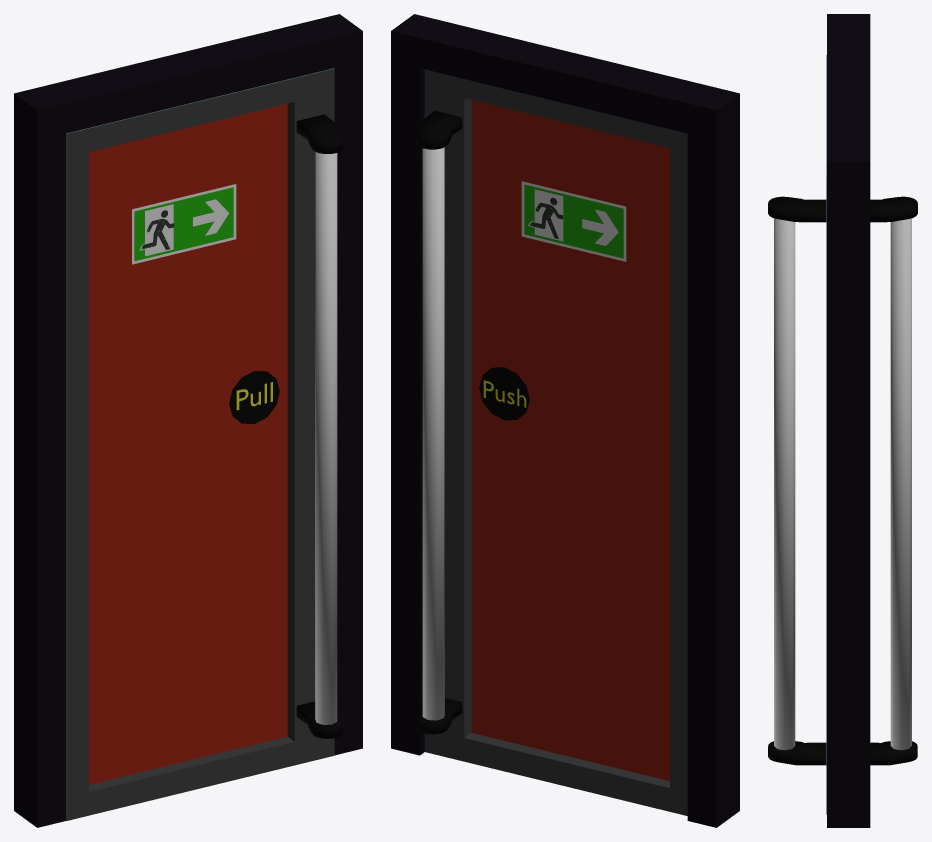
File: d-door-campus-exit.glb
3 renders of one model, left to right at view 1: azimuth 30°, elevation 25°; view 2: azimuth 150°, elevation 25°; view 3: azimuth 270°, elevation 25°, orthographic. The views are drawn at different scales.
Parts seen in each view (by area): view 1: Door, spaceExitDoot.001; view 2: Door, spaceExitDoot.001; view 3: spaceExitDoot.001, Door.
Part boxes in pixels (left/top/right/bottom): Door: left=66, top=68, right=343, bottom=820; spaceExitDoot.001: left=14, top=14, right=362, bottom=827; Door: left=416, top=69, right=687, bottom=815; spaceExitDoot.001: left=391, top=14, right=739, bottom=827; spaceExitDoot.001: left=827, top=14, right=870, bottom=827; Door: left=768, top=55, right=917, bottom=814.
Bounding box in the file's own units: 0.9425 × 1.99 × 0.4043.
Materials: 1 (1 with a texture image).
